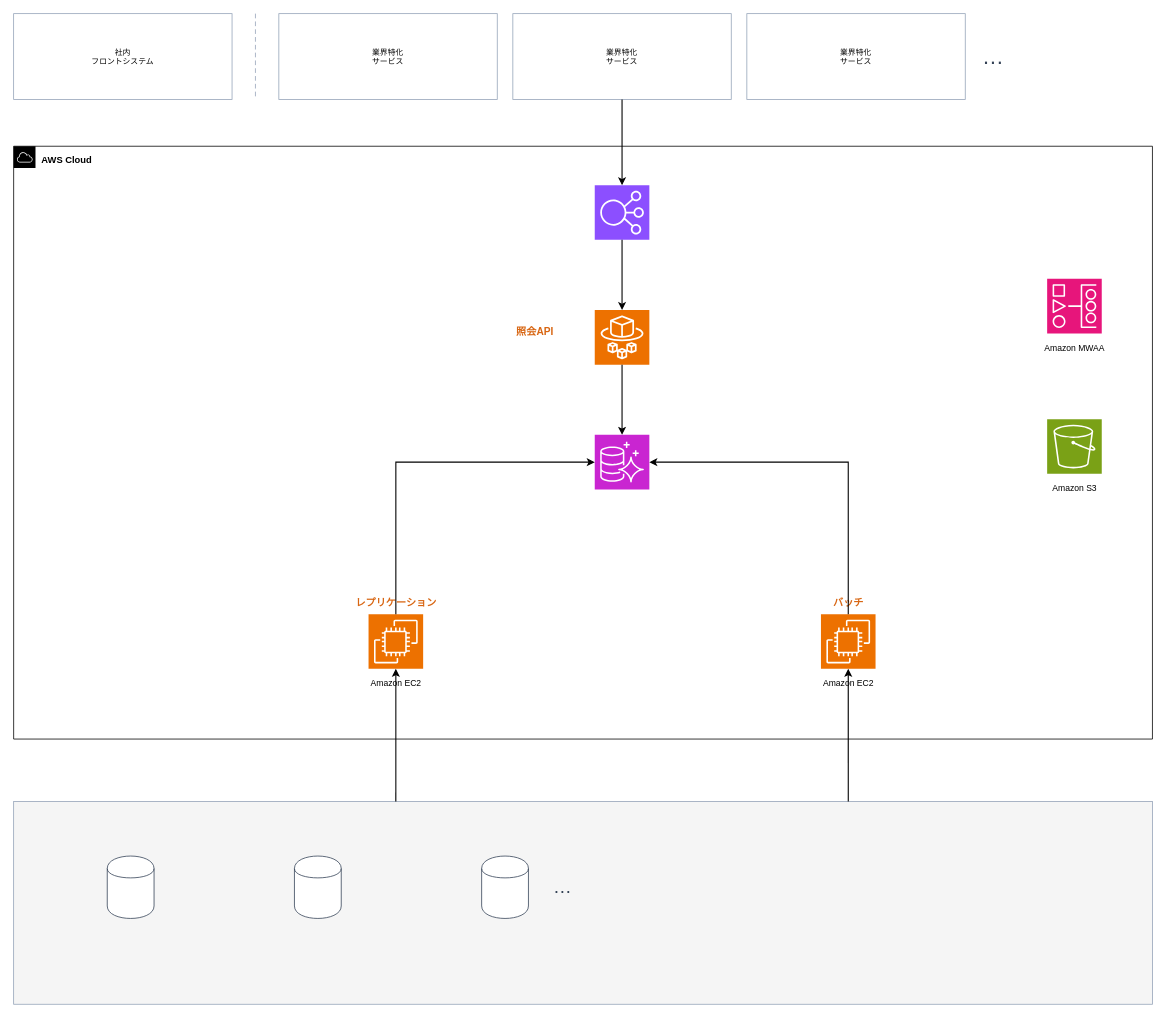
This 1166x1018 diagram has some shape labels left out. Each missing label, with the box of its shape:
Amazon Aurora: (594, 434, 649, 489)
AWS Fargate: (594, 309, 649, 365)
Elastic Load Balancing: (594, 184, 649, 240)
基幹システム群: (13, 801, 1152, 1004)
